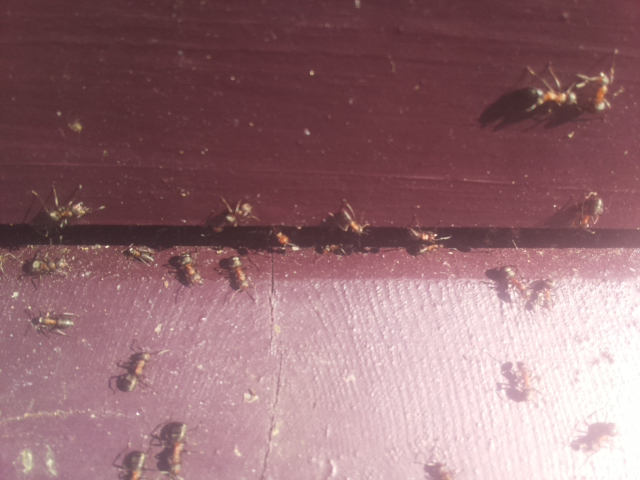ant: (204, 193, 260, 240), (519, 83, 581, 114), (114, 346, 153, 394), (40, 196, 93, 231), (574, 186, 609, 238), (566, 420, 621, 453), (496, 359, 536, 402), (330, 204, 375, 239), (495, 258, 529, 304), (25, 307, 77, 333), (164, 423, 187, 479), (228, 249, 254, 297), (588, 70, 614, 114), (113, 450, 151, 480), (178, 249, 202, 289), (124, 245, 155, 266)
